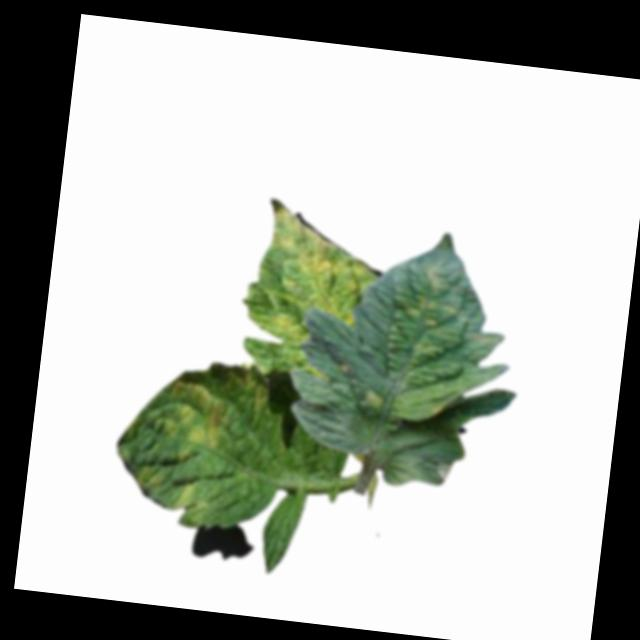Leaf_Mold: (372, 255, 515, 429), (251, 198, 370, 349), (150, 378, 228, 454), (173, 474, 199, 511)
